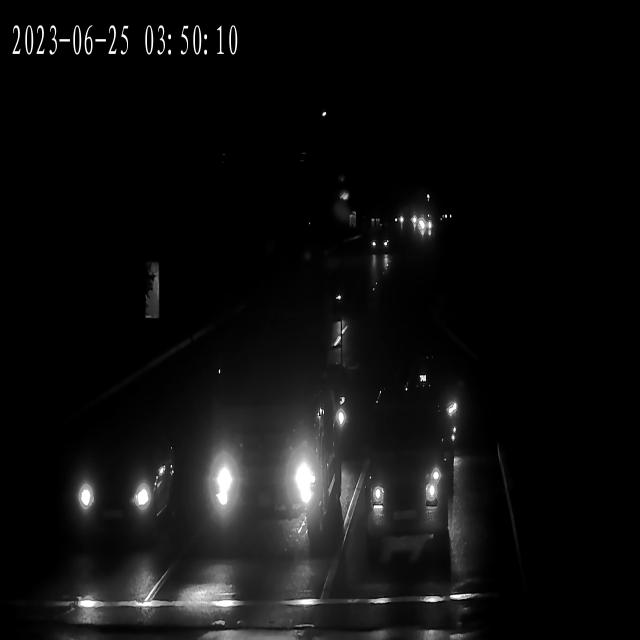Car: (193, 402, 332, 528), (62, 429, 176, 543), (368, 427, 455, 574), (304, 354, 367, 466), (404, 360, 460, 449), (369, 226, 389, 255), (370, 231, 392, 257), (412, 224, 432, 240), (411, 220, 432, 234), (391, 214, 409, 230)
